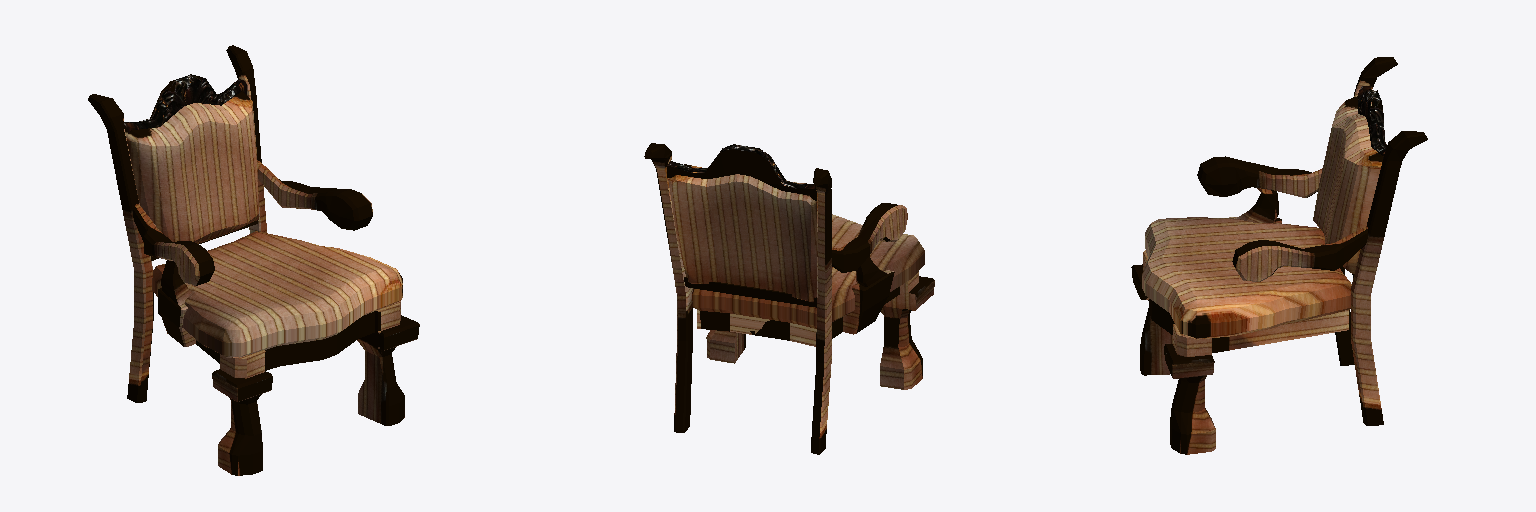
3 views of the same model, side by side, from view 1: azimuth 30°, elevation 25°; view 2: azimuth 150°, elevation 25°; view 3: azimuth 270°, elevation 25° (orthographic).
Visible parts, largest first — view 1: LivingRoom_GEO_GRP_LivingRoom_Ceiling_06; view 2: LivingRoom_GEO_GRP_LivingRoom_Ceiling_06; view 3: LivingRoom_GEO_GRP_LivingRoom_Ceiling_06.
Boxes of the visible parts, x1,y1,x2,y2 form: LivingRoom_GEO_GRP_LivingRoom_Ceiling_06: [88, 45, 419, 475]; LivingRoom_GEO_GRP_LivingRoom_Ceiling_06: [644, 143, 934, 454]; LivingRoom_GEO_GRP_LivingRoom_Ceiling_06: [1131, 57, 1427, 454].
Bounding box in the file's own units: 0.7132 × 0.9232 × 0.8327.
1 materials, 1 textured.